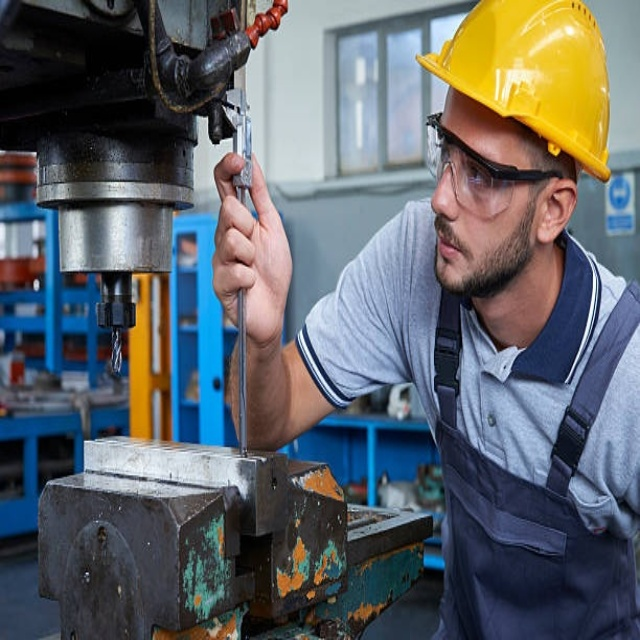Gafas: (426, 117, 567, 218)
Sin_guantes: (212, 145, 292, 347)
Sin_mascara: (429, 223, 472, 281)
